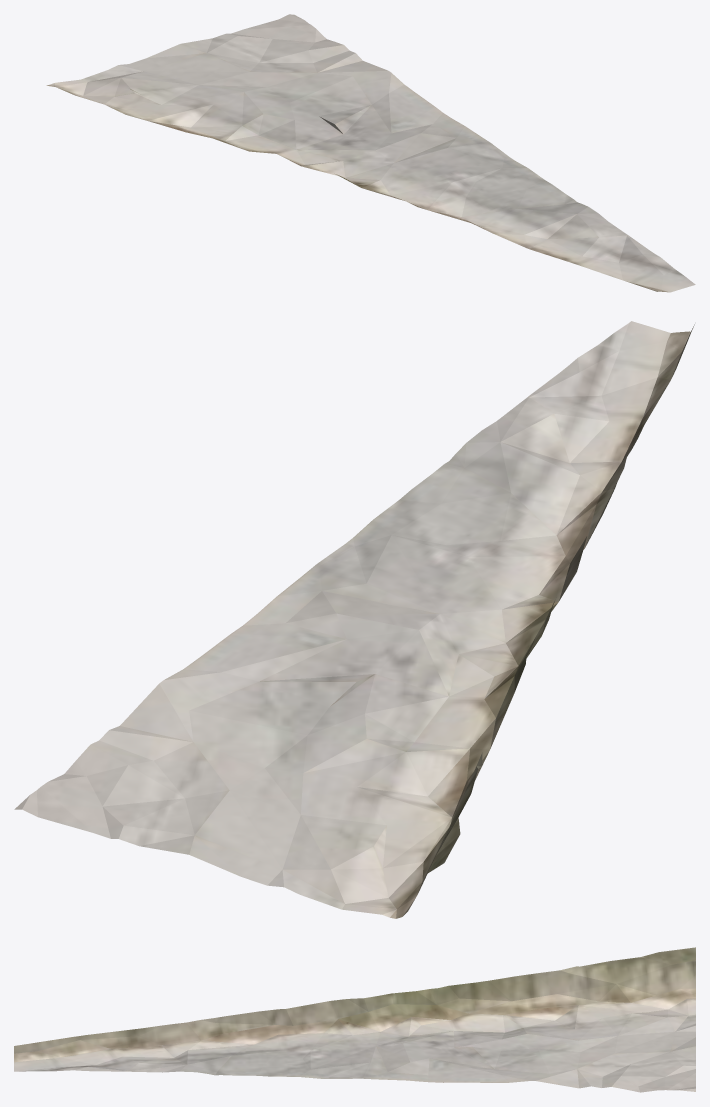
3 renders of one model, top to bottom at view 1: azimuth 30°, elevation 25°; view 2: azimuth 150°, elevation 25°; view 3: azimuth 270°, elevation 25°, orthographic. The views are drawn at different scales.
Bounding box in the file's own units: 2.37 × 0.3853 × 5.9.
Materials: 1 (1 with a texture image).
